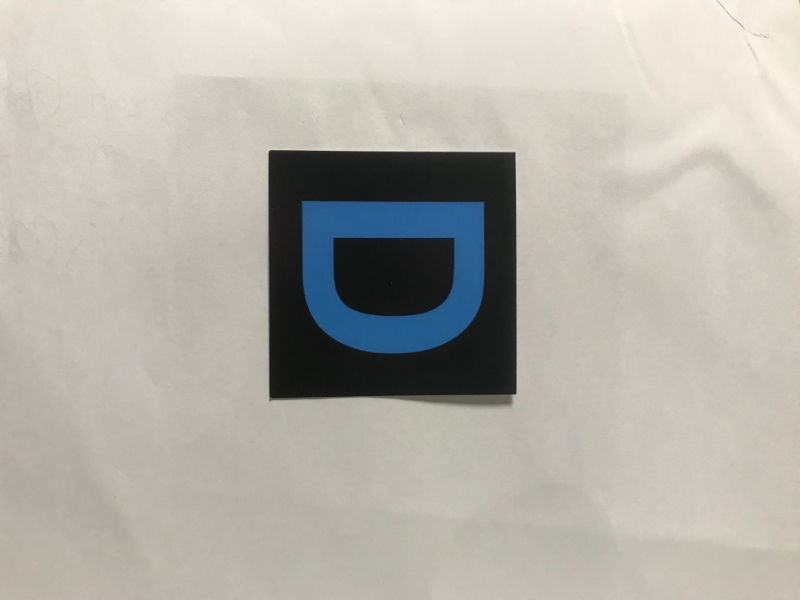D-14: (274, 155, 511, 390)
